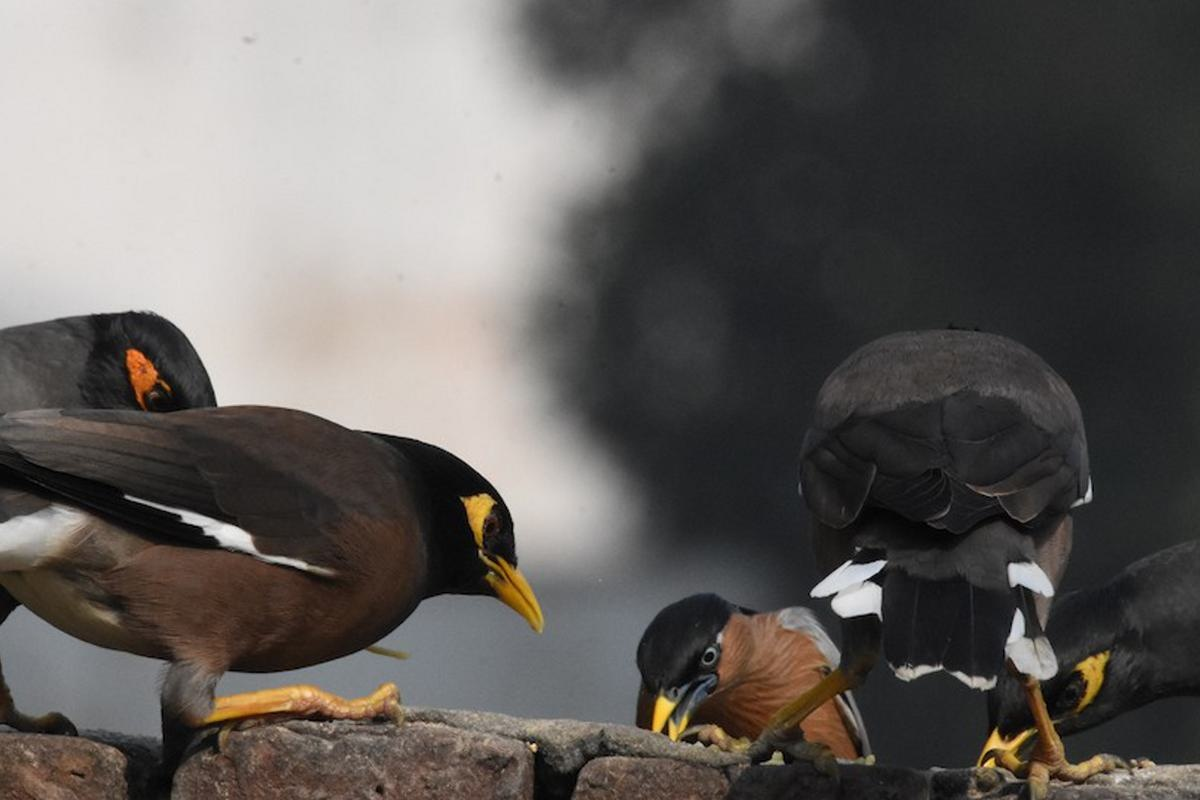myna: (1, 431, 545, 731), (609, 566, 845, 766)
